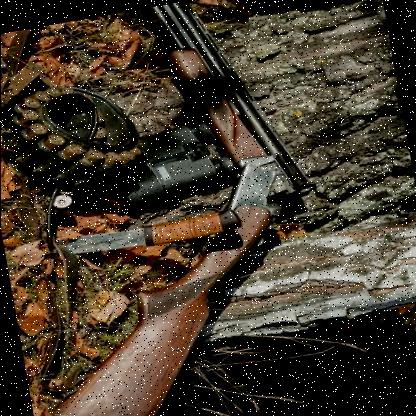rifle: (0, 0, 341, 416)
